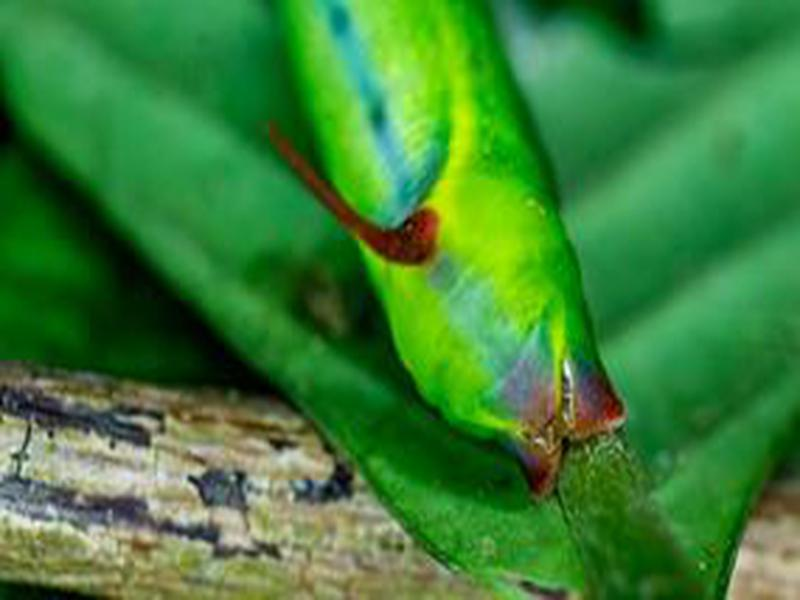Rice_horned_caterpillar: (343, 150, 639, 501)
